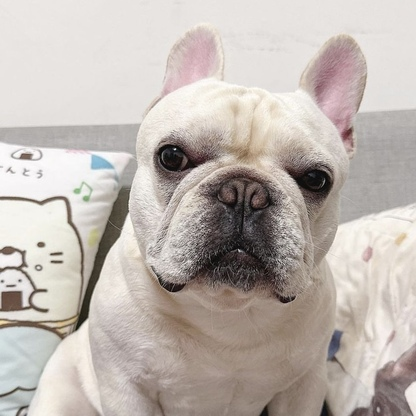bulldog: (56, 26, 372, 416)
